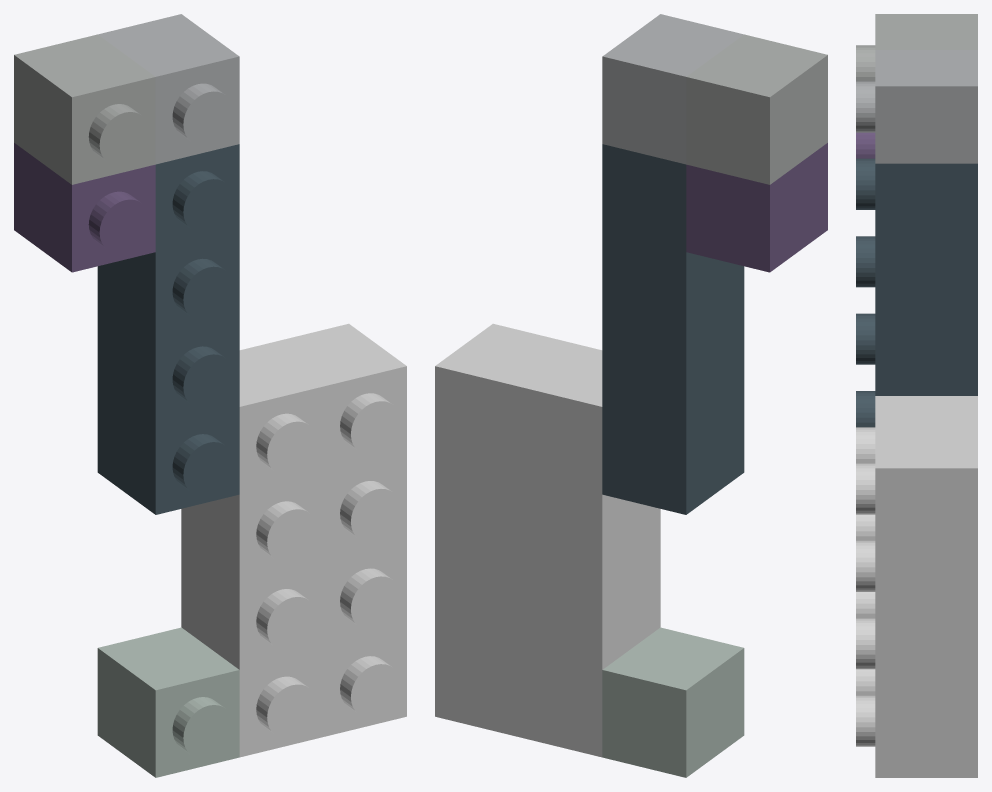
The model's file is current.glb.
3 renders of one model, left to right at view 1: azimuth 30°, elevation 25°; view 2: azimuth 150°, elevation 25°; view 3: azimuth 270°, elevation 25°, orthographic. The views are drawn at different scales.
Parts seen in each view (by area): view 1: world; view 2: world; view 3: world.
Part boxes in pixels (<box>): world: <box>14,14,406,777</box>; world: <box>435,14,827,777</box>; world: <box>856,14,977,777</box>.
Bounding box in the file's own units: 32 × 64 × 11.4.
